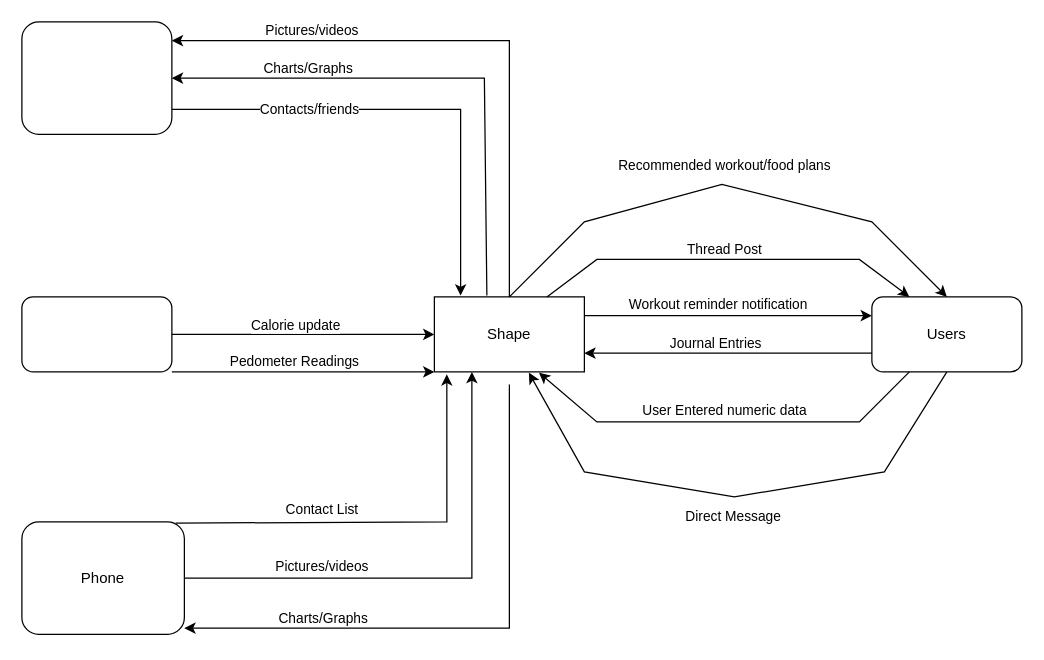
Some shapes in this 1044 by 660 pixel diagram are drawn without their labels. Each missing label, with the box of its shape:
Integrated Fitness Apps: (21, 296, 172, 372)
Social Media: (21, 21, 172, 134)
